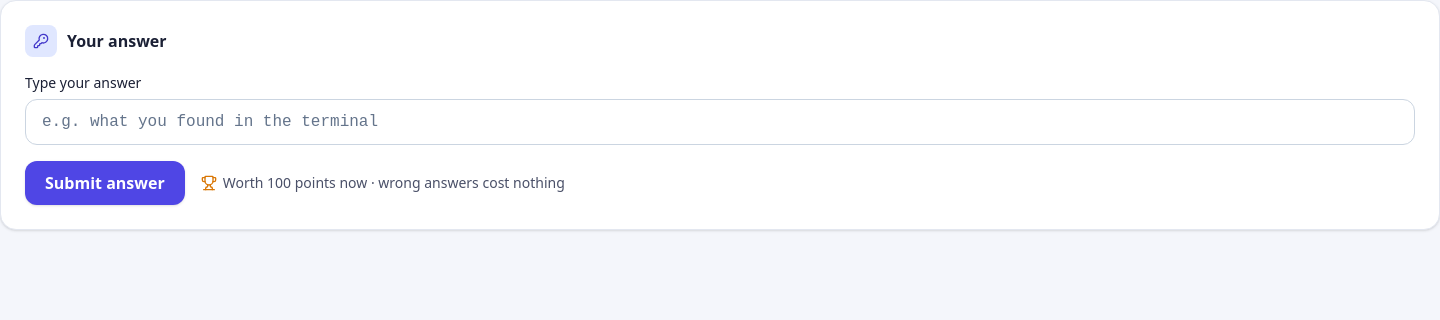
Test: AnswerPanel › asks for an answer before contacting the server
Click the button "Submit answer": click(105, 183) [25,161,185,205]
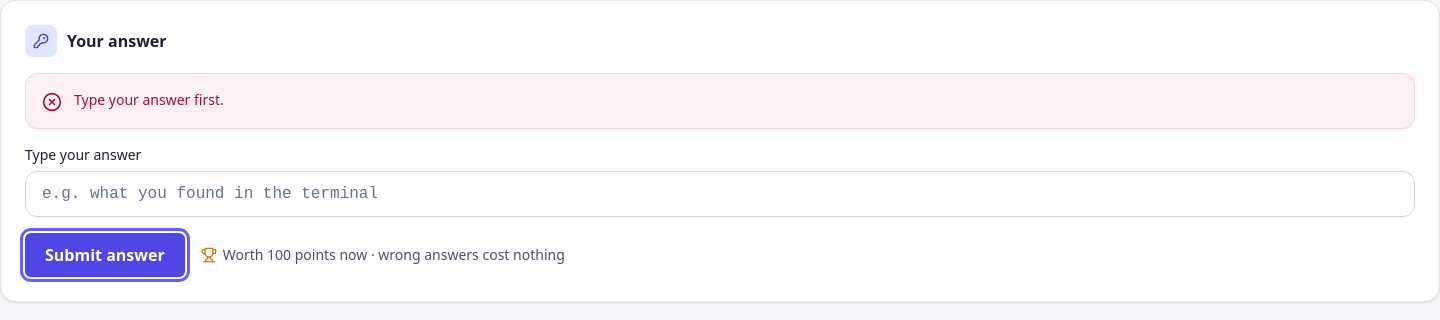
Expected: the text "Type your answer first." is shown, [74,90,224,110]
